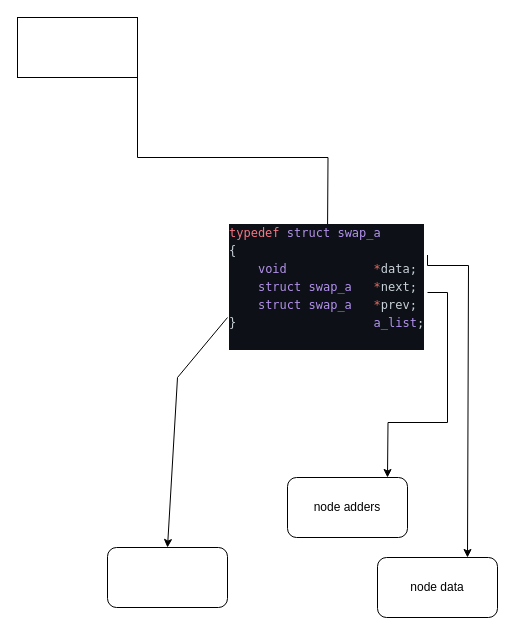
Some shapes in this 515 by 635 pixel diagram are drawn without their labels. Each missing label, with the box of its shape:
Go back in node: (106, 546, 228, 608)
linkd list: (16, 16, 138, 78)
